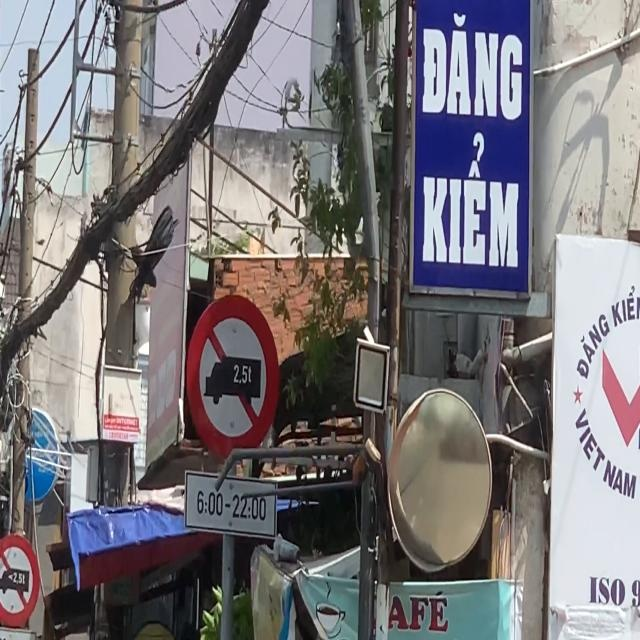bien_cam: (185, 287, 279, 464), (0, 528, 41, 628)
